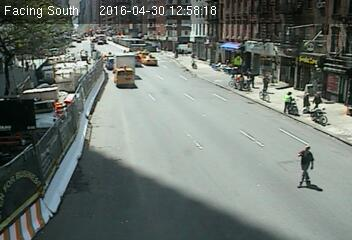neg: (52, 93, 72, 119), (190, 7, 207, 30), (302, 51, 319, 73), (64, 27, 81, 49), (162, 119, 179, 141), (146, 19, 163, 41), (22, 44, 38, 66), (46, 37, 60, 56), (223, 18, 237, 36), (121, 62, 134, 80), (89, 28, 102, 46), (198, 42, 209, 57), (303, 32, 312, 44)
pos: (289, 143, 323, 188), (281, 90, 298, 113), (260, 72, 276, 94), (311, 90, 327, 110), (297, 90, 312, 110), (245, 68, 259, 86)
